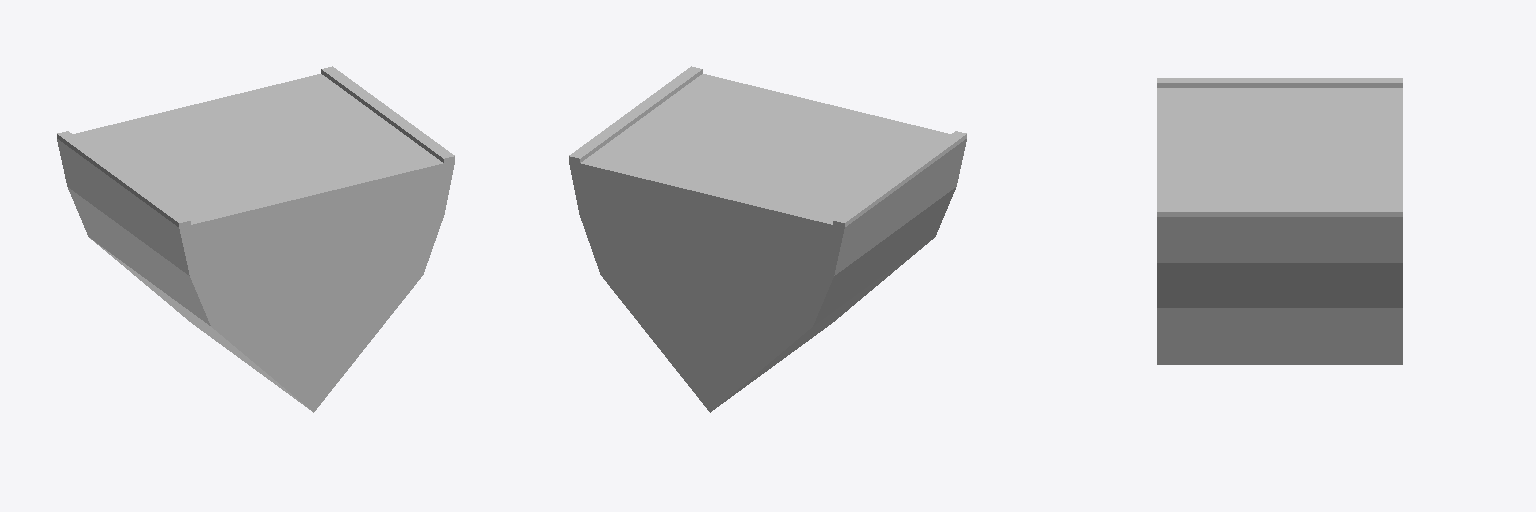
File: coque_milieu_bas.obj
3 views of the same model, side by side, from view 1: azimuth 30°, elevation 25°; view 2: azimuth 150°, elevation 25°; view 3: azimuth 270°, elevation 25° (orthographic).
Visible parts, largest first — view 1: mesh_Cube.001; view 2: mesh_Cube.001; view 3: mesh_Cube.001.
Part boxes in pixels (x1,y1,x2,y2): mesh_Cube.001: (57,66,454,412); mesh_Cube.001: (569,66,966,412); mesh_Cube.001: (1157,78,1402,364).
Bounding box in the file's own units: 1.3 × 1 × 1.